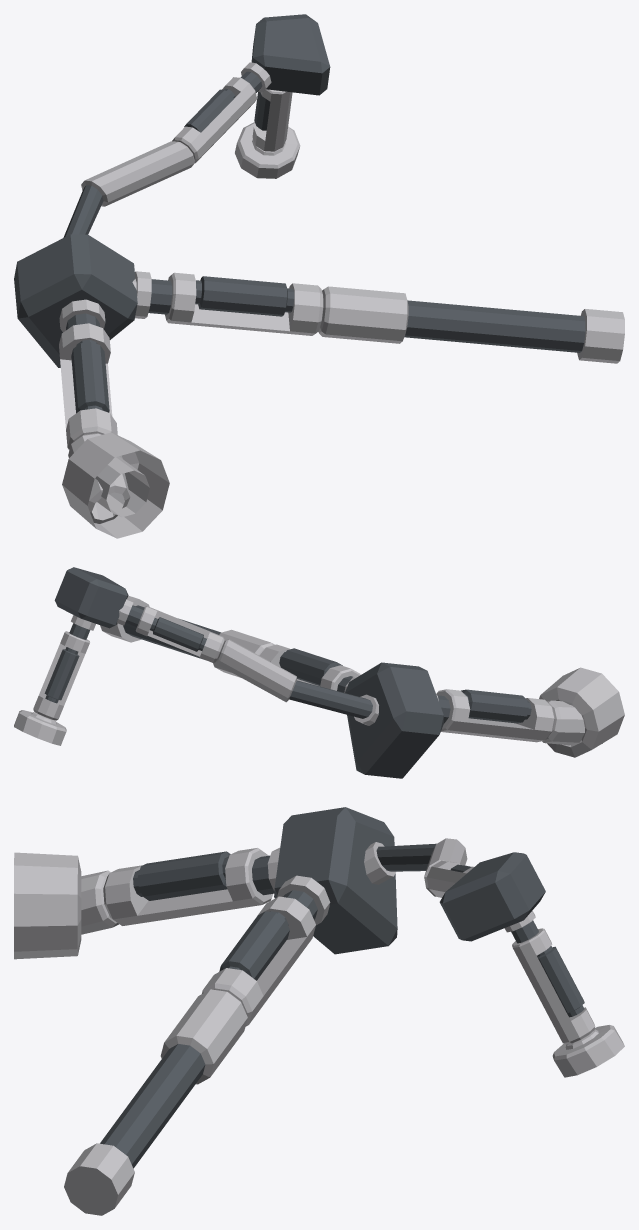
File: Fighter_03_Pipes_05.fbx
The picture shows the model from 3 angles, top to bottom: view 1: azimuth 30°, elevation 25°; view 2: azimuth 150°, elevation 25°; view 3: azimuth 270°, elevation 25°; orthographic projection. The views are drawn at different scales.
Visible parts, largest first — view 1: Fighter_03_Pipes_05; view 2: Fighter_03_Pipes_05; view 3: Fighter_03_Pipes_05.
Part boxes in pixels (x1=…): Fighter_03_Pipes_05: x1=14, y1=14, x2=624, y2=538; Fighter_03_Pipes_05: x1=14, y1=567, x2=624, y2=778; Fighter_03_Pipes_05: x1=14, y1=807, x2=624, y2=1215.
Size of the model in its own units: 462 by 203 by 377.
1 material, 1 textured.
